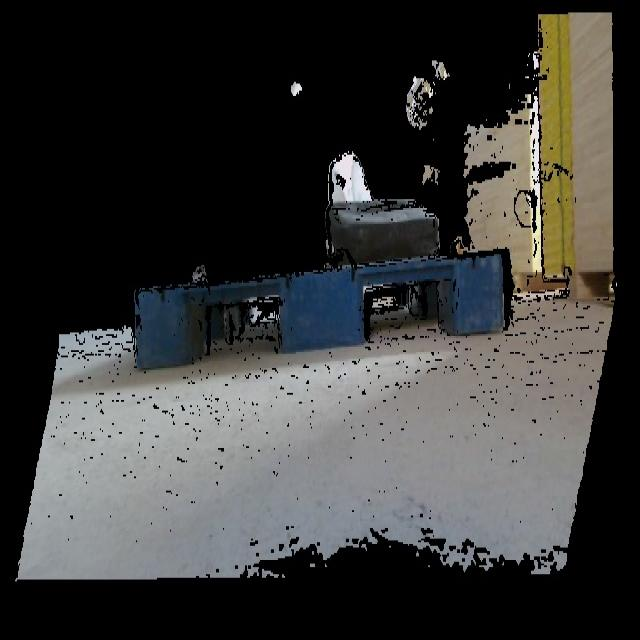block: (276, 268, 369, 346), (130, 283, 202, 366), (449, 256, 509, 341)
front: (129, 254, 511, 369)
